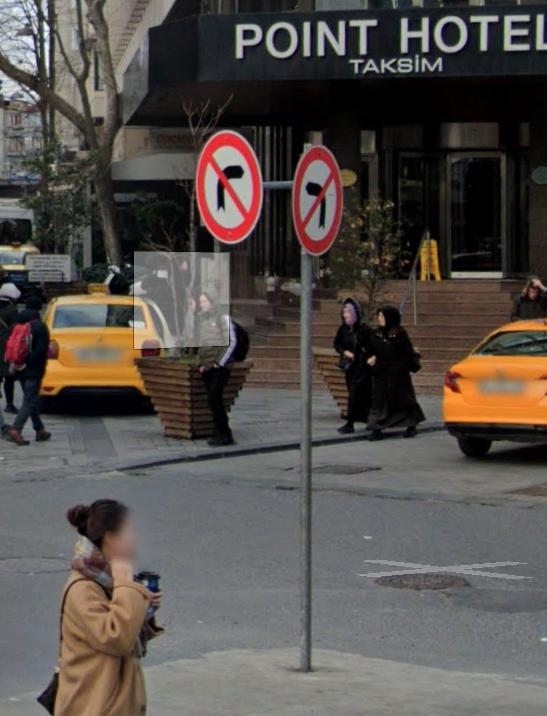leftturnsareforbidden: (297, 145, 343, 254)
rightturnsareforbidden: (197, 130, 267, 240)
